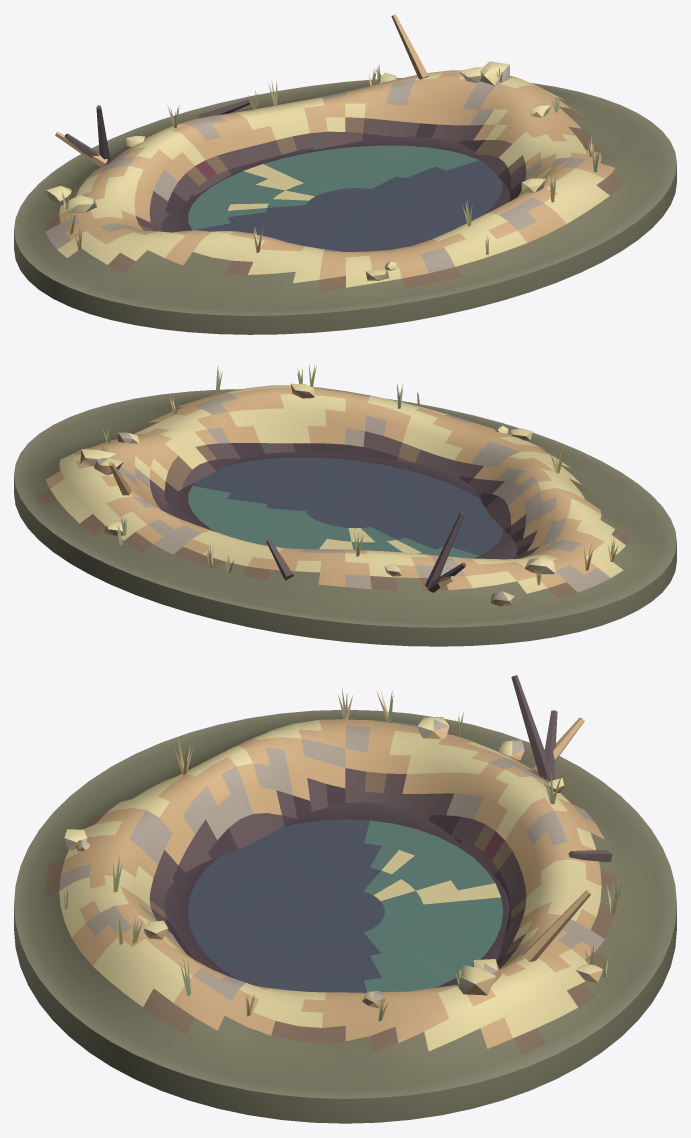
The model's file is shell_craters_v2.glb.
3 renders of one model, top to bottom at view 1: azimuth 30°, elevation 25°; view 2: azimuth 150°, elevation 25°; view 3: azimuth 270°, elevation 25°, orthographic. The views are drawn at different scales.
Parts seen in each view (by area): view 1: Body; view 2: Body; view 3: Body.
Boxes of the visible parts, x1,y1,x2,y2 form: Body: (14, 14, 676, 334); Body: (14, 364, 676, 646); Body: (14, 675, 676, 1123).
Size of the model in its own units: 1.35 by 0.2772 by 0.972.
